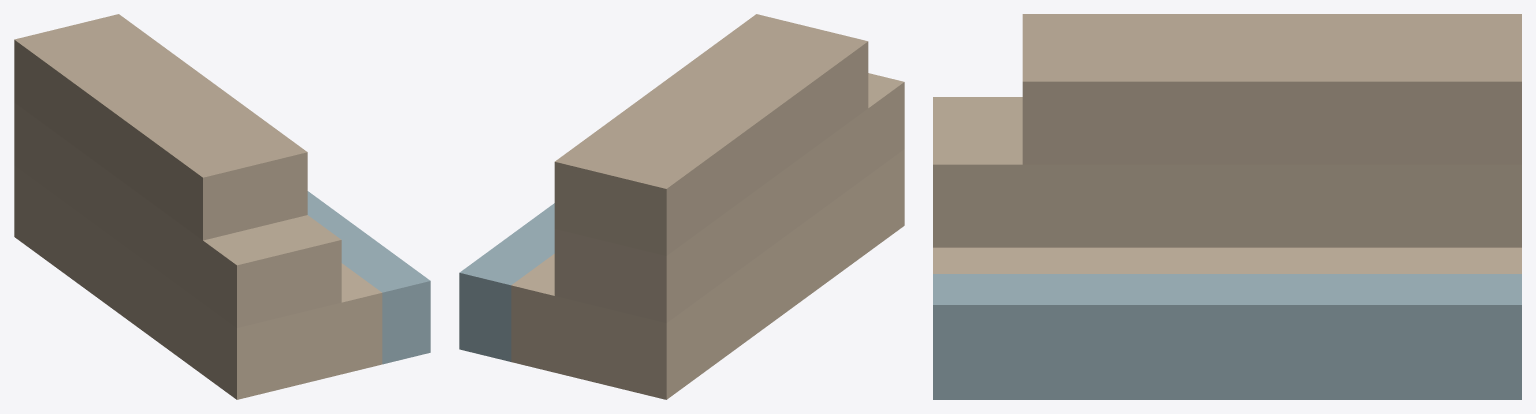
The model's file is massing.glb.
The picture shows the model from 3 angles, left to right: view 1: azimuth 30°, elevation 25°; view 2: azimuth 150°, elevation 25°; view 3: azimuth 270°, elevation 25°; orthographic projection. The views are drawn at different scales.
Parts seen in each view (by area): view 1: main/floor3/0, main/floor1/0, main/floor2/0, wing/floor1/0; view 2: main/floor3/0, main/floor1/0, main/floor2/0, wing/floor1/0; view 3: main/floor3/0, wing/floor1/0, main/floor2/0, main/floor1/0.
Part boxes in pixels (x1,y1,x2,y2): main/floor3/0: (14, 14, 307, 240); main/floor1/0: (14, 165, 382, 399); main/floor2/0: (14, 102, 341, 327); wing/floor1/0: (307, 191, 430, 364); main/floor3/0: (554, 14, 868, 255); main/floor1/0: (511, 149, 904, 399); main/floor2/0: (554, 73, 904, 323); wing/floor1/0: (459, 203, 554, 361); main/floor3/0: (1022, 14, 1521, 164); wing/floor1/0: (933, 274, 1521, 399); main/floor2/0: (933, 97, 1521, 247); main/floor1/0: (933, 247, 1521, 273).
Size of the model in its own units: 9.04 by 8.8 by 18.
